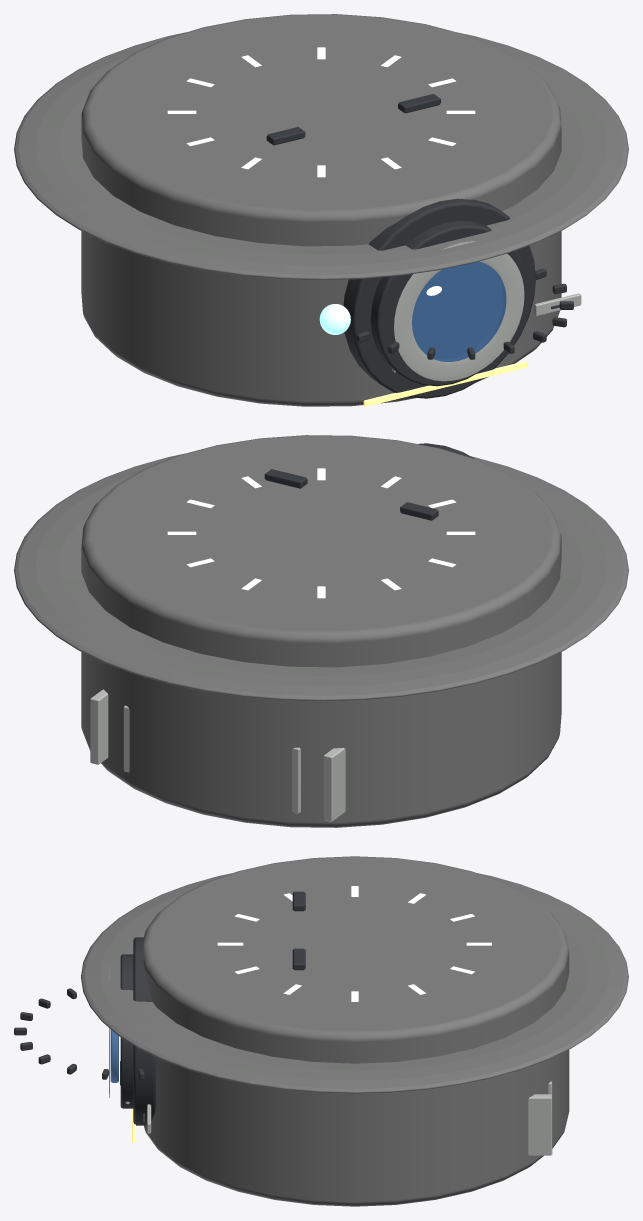
The picture shows the model from 3 angles, top to bottom: view 1: azimuth 30°, elevation 25°; view 2: azimuth 150°, elevation 25°; view 3: azimuth 270°, elevation 25°; orthographic projection. The views are drawn at different scales.
Visible parts, largest first — view 1: product_body, product_ring_outer, focus_ring_knurled_outer, front_lens_glass_blue, front_lens_chrome_inner_ring, front_lens_outer_black_ring, product_body_lower_trim_warm, product_status_indicator_dot; view 2: product_body, product_ring_outer, rear_cooling_fin_01, rear_cooling_fin_08, rear_cooling_fin_02; view 3: product_body, product_ring_outer, focus_ring_knurled_outer, rear_cooling_fin_08, front_lens_outer_black_ring.
Boxes of the visible parts, x1,y1,x2,y2 form: product_body: [81, 14, 561, 406]; product_ring_outer: [14, 32, 628, 279]; focus_ring_knurled_outer: [343, 198, 535, 398]; front_lens_glass_blue: [412, 261, 506, 361]; front_lens_chrome_inner_ring: [394, 241, 524, 381]; front_lens_outer_black_ring: [370, 221, 526, 386]; product_body_lower_trim_warm: [363, 361, 527, 406]; product_status_indicator_dot: [319, 304, 350, 334]; product_body: [81, 435, 561, 827]; product_ring_outer: [14, 454, 628, 700]; rear_cooling_fin_01: [323, 747, 345, 821]; rear_cooling_fin_08: [90, 689, 108, 764]; rear_cooling_fin_02: [292, 747, 300, 813]; product_body: [143, 856, 569, 1206]; product_ring_outer: [81, 873, 628, 1093]; focus_ring_knurled_outer: [133, 937, 155, 1125]; rear_cooling_fin_08: [528, 1094, 552, 1155]; front_lens_outer_black_ring: [120, 954, 133, 1108].
Size of what is drawn, in the model's own units: 2.56 by 0.9875 by 2.87.
